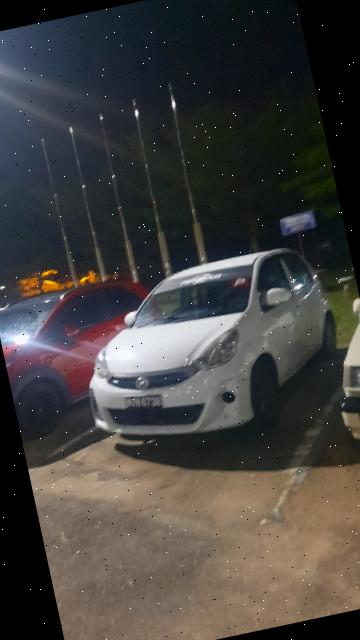License_Plate: (119, 385, 168, 420)
car: (64, 238, 354, 460)
